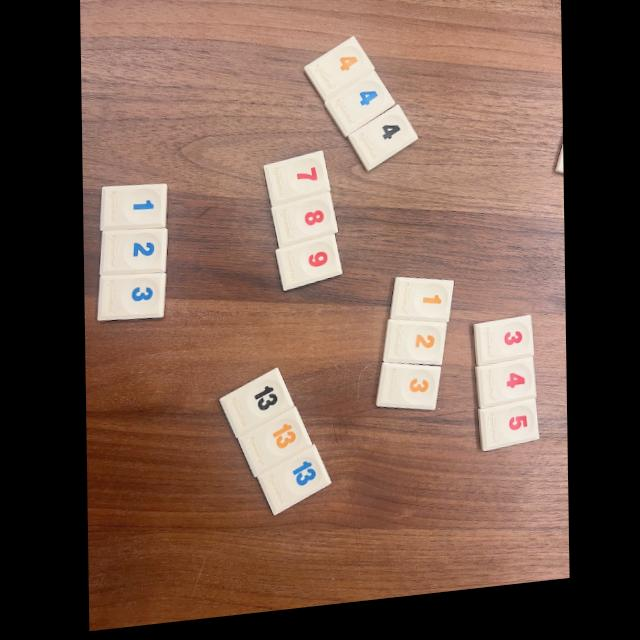black_13: (220, 374, 293, 444)
black_4: (347, 114, 417, 179)
blue_1: (99, 187, 167, 234)
blue_13: (256, 452, 330, 522)
blue_2: (100, 232, 167, 278)
blue_3: (96, 276, 166, 323)
blue_4: (324, 80, 394, 145)
orange_1: (390, 287, 453, 333)
orange_13: (237, 413, 311, 482)
orange_2: (382, 329, 445, 375)
orange_3: (376, 372, 440, 420)
orange_4: (304, 45, 374, 108)
red_3: (473, 328, 532, 377)
red_4: (475, 369, 534, 420)
red_5: (477, 410, 537, 462)
red_7: (264, 158, 330, 213)
red_8: (270, 200, 337, 255)
red_9: (275, 241, 341, 297)
